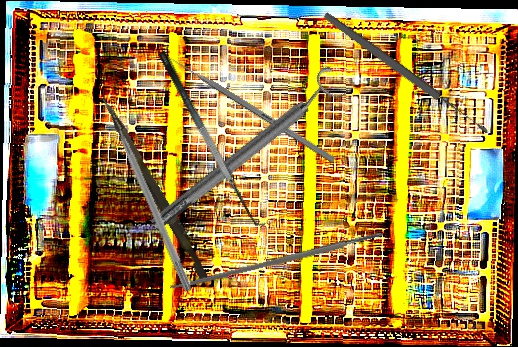Fixation Ring: (141, 63, 351, 240)
Pusher: (94, 97, 215, 284), (163, 51, 336, 164), (106, 103, 195, 294)
Scalpel Handle: (169, 230, 385, 293)
Spatula Surgical: (156, 42, 272, 234)
Surgical Spoon: (321, 9, 491, 138)
